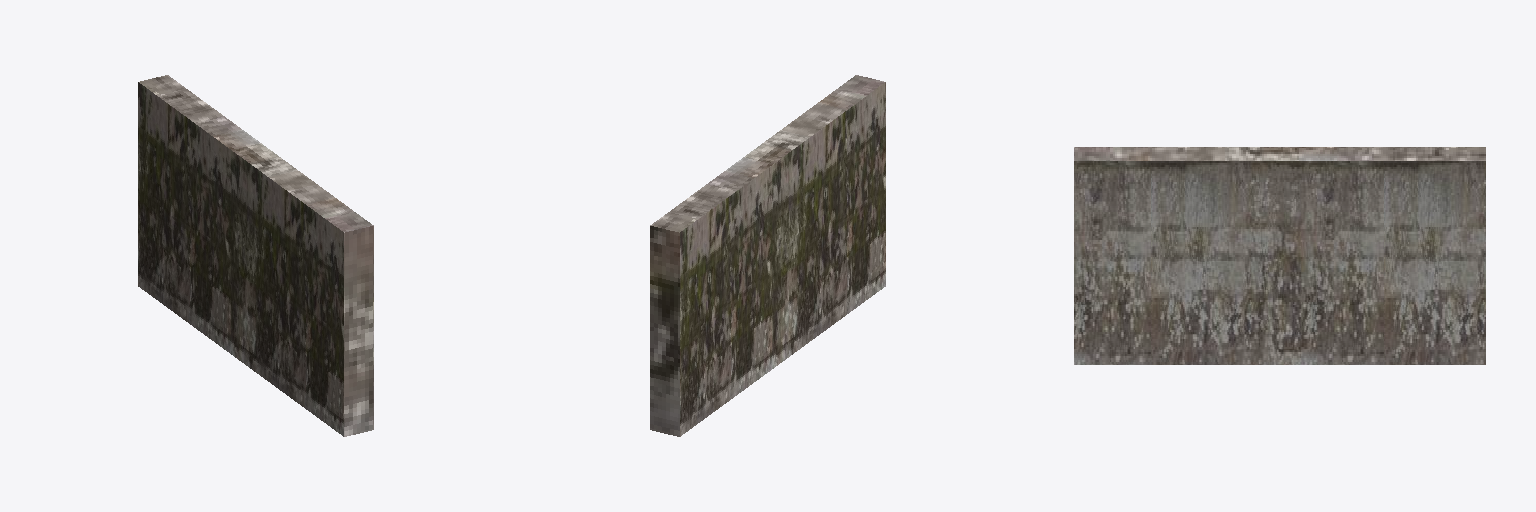
3 views of the same model, side by side, from view 1: azimuth 30°, elevation 25°; view 2: azimuth 150°, elevation 25°; view 3: azimuth 270°, elevation 25° (orthographic).
Parts seen in each view (by area): view 1: Wall_Cube.002; view 2: Wall_Cube.002; view 3: Wall_Cube.002.
Boxes of the visible parts, x1,y1,x2,y2 form: Wall_Cube.002: [138, 75, 373, 436]; Wall_Cube.002: [650, 75, 885, 436]; Wall_Cube.002: [1074, 147, 1485, 364].
Size of the model in its own units: 0.301 by 2 by 3.65.
Materials: 1 (1 with a texture image).